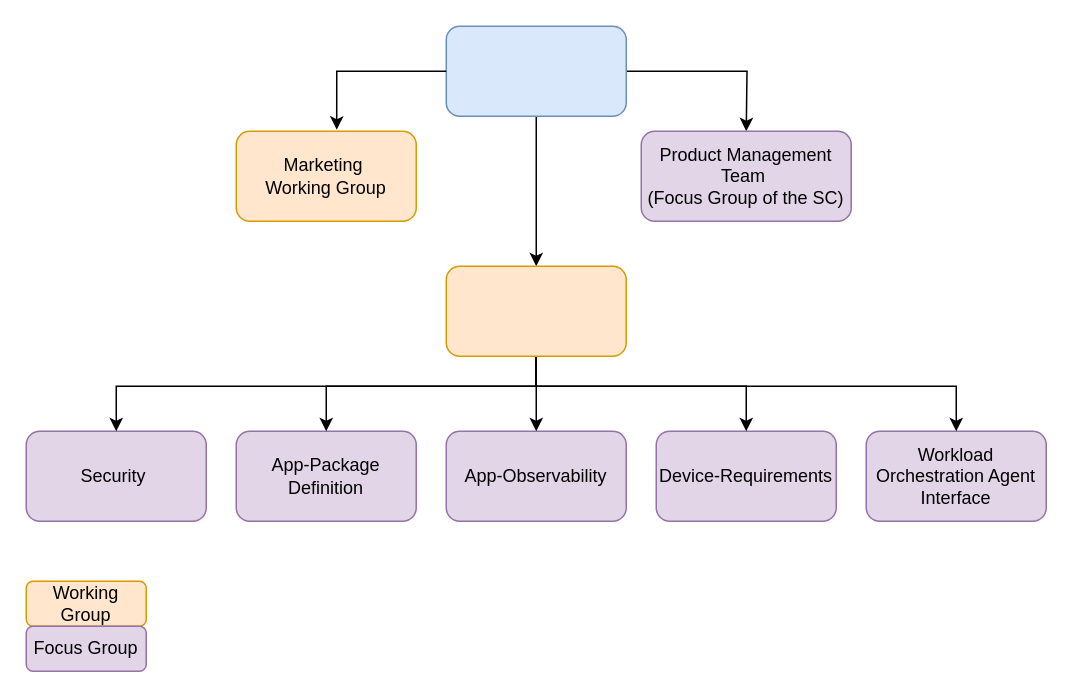
The diagram is 1073 pixels wide and 698 high, and some of its shapes have lost their labels. The shapes that lost their labels are listed below. From the top down, each one's centre as x and y in pixels, then its label:
point (535, 70): Steering Committee
point (535, 310): Technical Working Group
